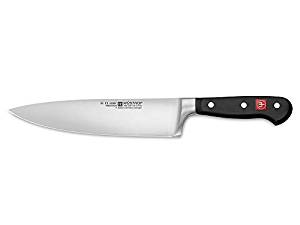knife: (9, 97, 292, 139)
